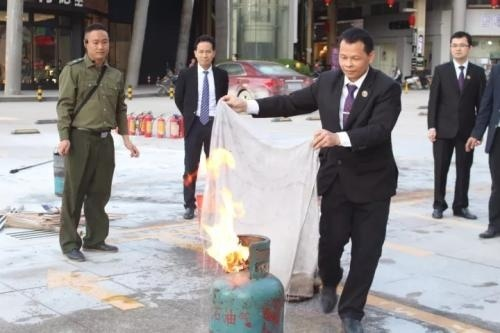fire: (191, 145, 250, 271)
